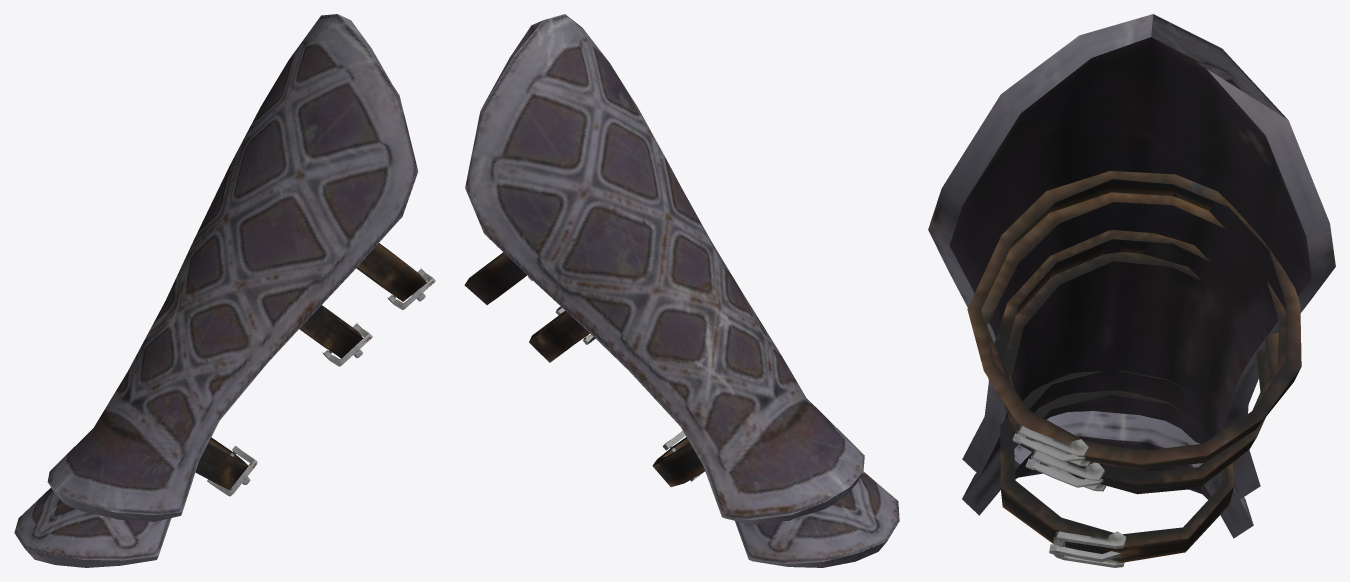
File: RClaw.fbx
The picture shows the model from 3 angles, left to right: view 1: azimuth 30°, elevation 25°; view 2: azimuth 150°, elevation 25°; view 3: azimuth 270°, elevation 25°; orthographic projection. The views are drawn at different scales.
Parts seen in each view (by area): view 1: LClaw; view 2: LClaw; view 3: LClaw.
Boxes of the visible parts, left/top/right/bottom form: LClaw: left=14, top=14, right=435, bottom=567; LClaw: left=464, top=14, right=899, bottom=567; LClaw: left=928, top=14, right=1335, bottom=567.
Bounding box in the file's own units: 1007 × 1128 × 598.
